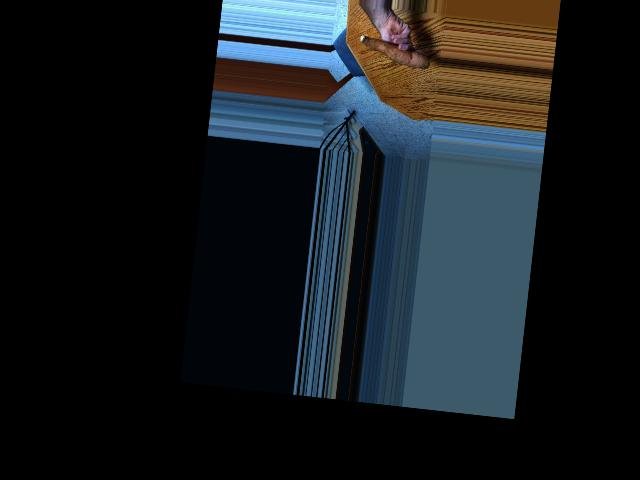sweet_potato: (356, 31, 431, 72)
